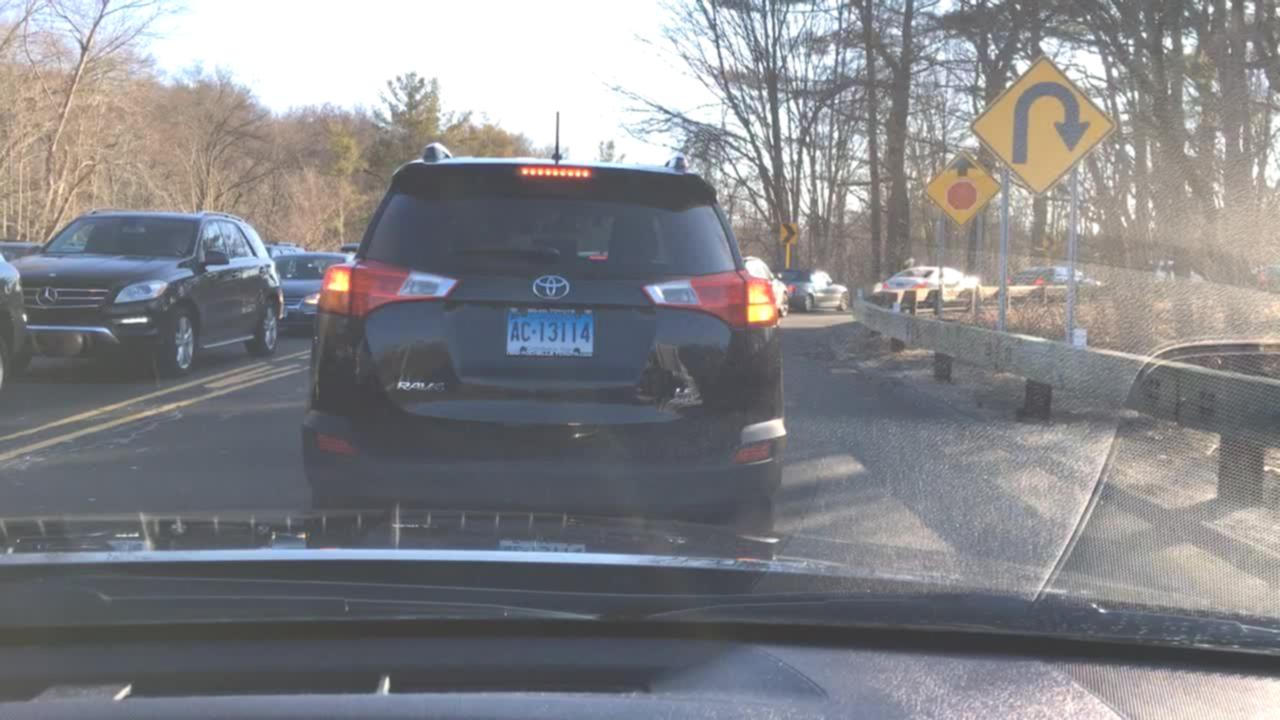Mercedes: (30, 277, 61, 311)
Toyota: (522, 268, 588, 304)
